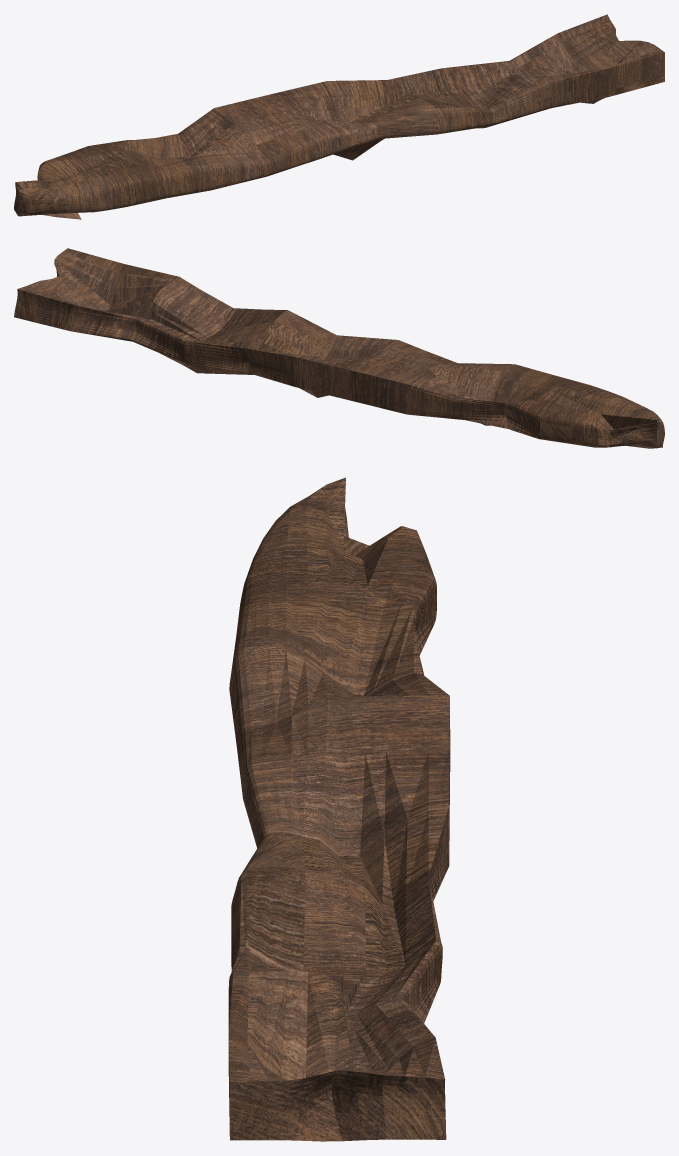
Rendered from Madera2.fbx.
3 renders of one model, top to bottom at view 1: azimuth 30°, elevation 25°; view 2: azimuth 150°, elevation 25°; view 3: azimuth 270°, elevation 25°, orthographic. The views are drawn at different scales.
Parts seen in each view (by area): view 1: Madera.002; view 2: Madera.002; view 3: Madera.002.
Part boxes in pixels (x1,y1,x2,y2): Madera.002: [14, 14, 664, 219]; Madera.002: [14, 248, 664, 448]; Madera.002: [228, 477, 450, 1141].
Size of the model in its own units: 717 by 65.68 by 111.
